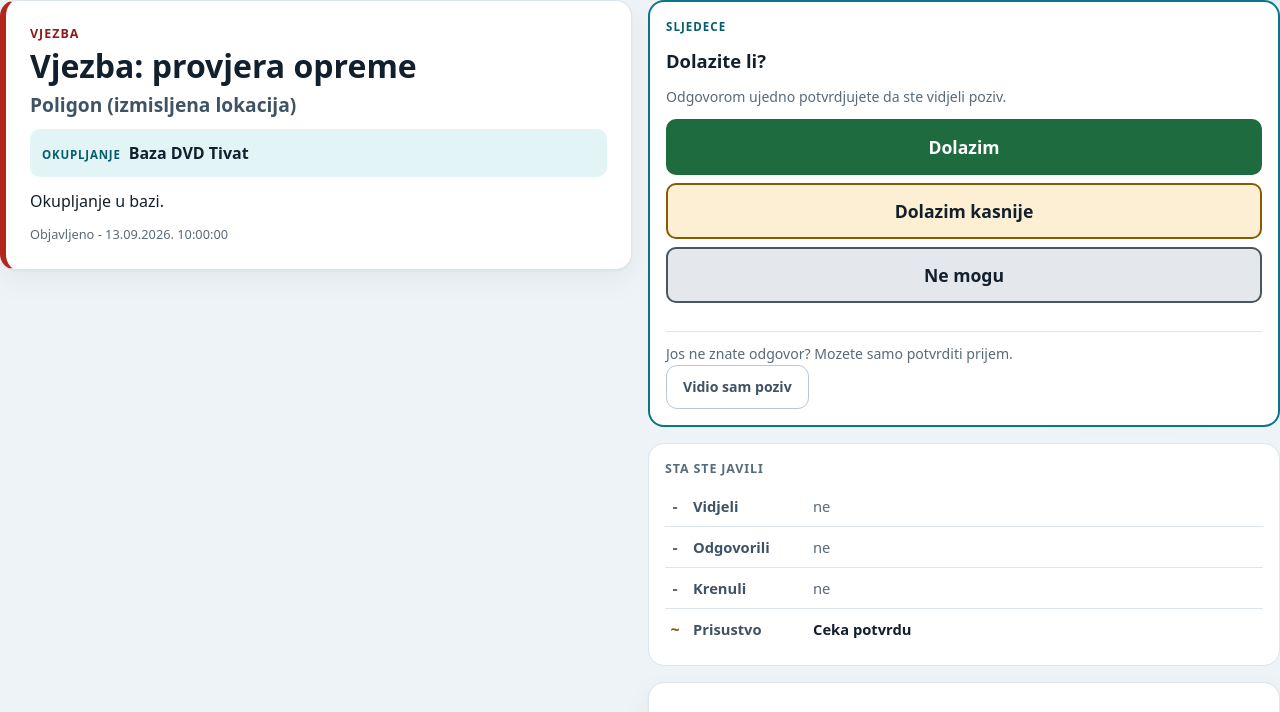
Test case: the firefighter screen renders on real data › never records a receipt as part of a failed answer
Click the button with test id "answer-DOLAZIM". click: coordinates (964, 147)
box: x1=666 y1=119 x2=1262 y2=175
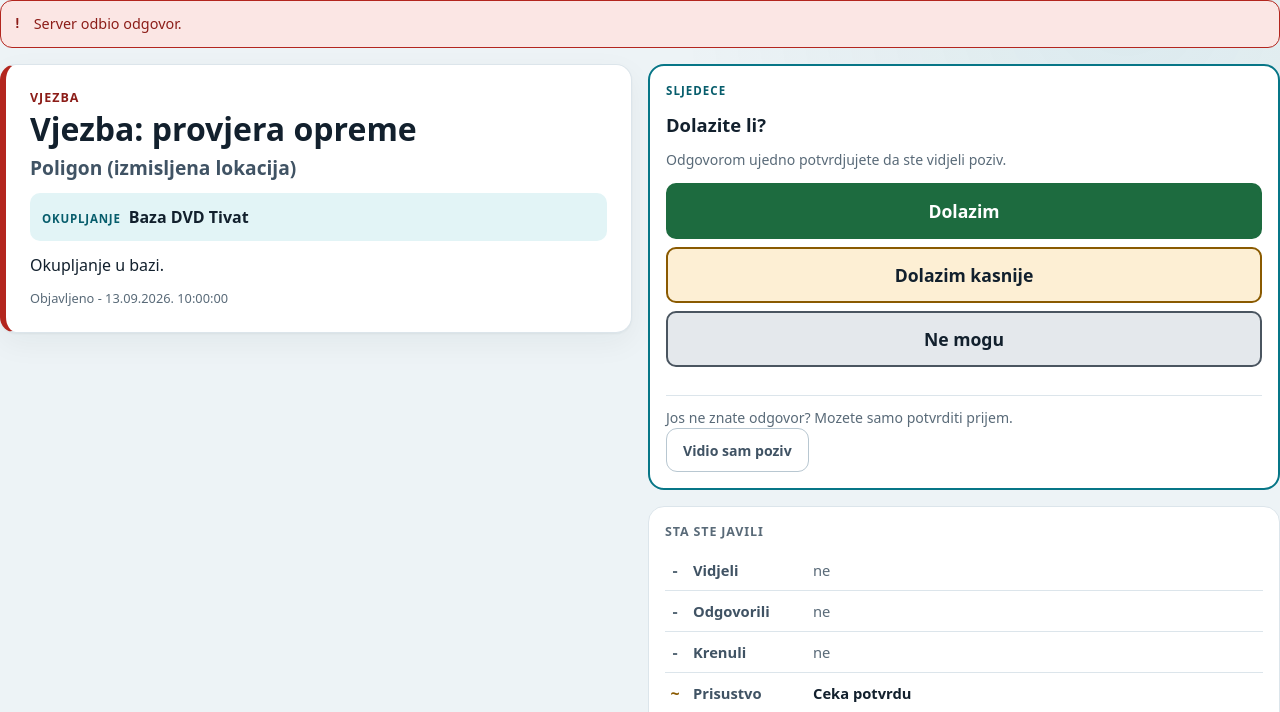
Now the text "Server odbio odgovor." is shown, box x1=34 y1=13 x2=182 y2=35
